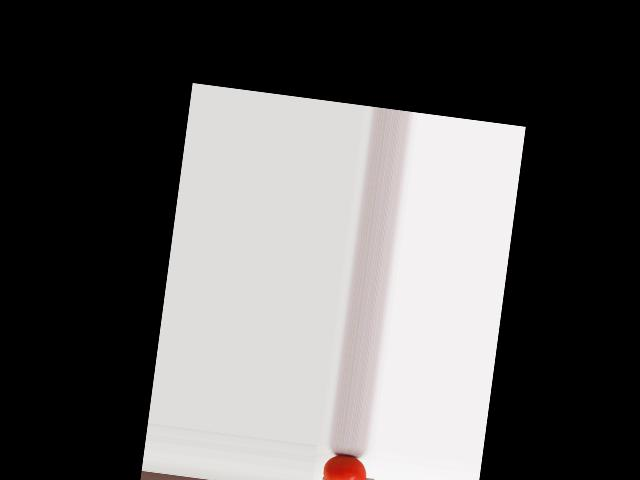tomato: (320, 452, 368, 480)
